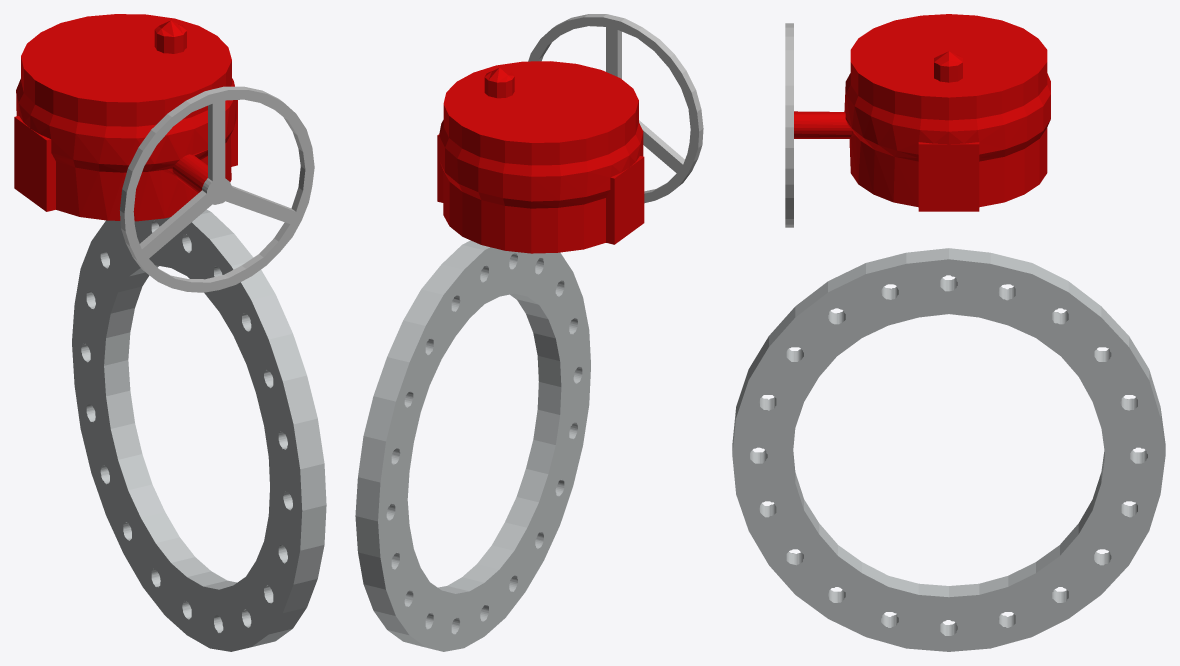
The picture shows the model from 3 angles, left to right: view 1: azimuth 30°, elevation 25°; view 2: azimuth 150°, elevation 25°; view 3: azimuth 270°, elevation 25°; orthographic projection. The views are drawn at different scales.
Bounding box in the file's own units: 0.3166 × 0.9517 × 0.6407.
